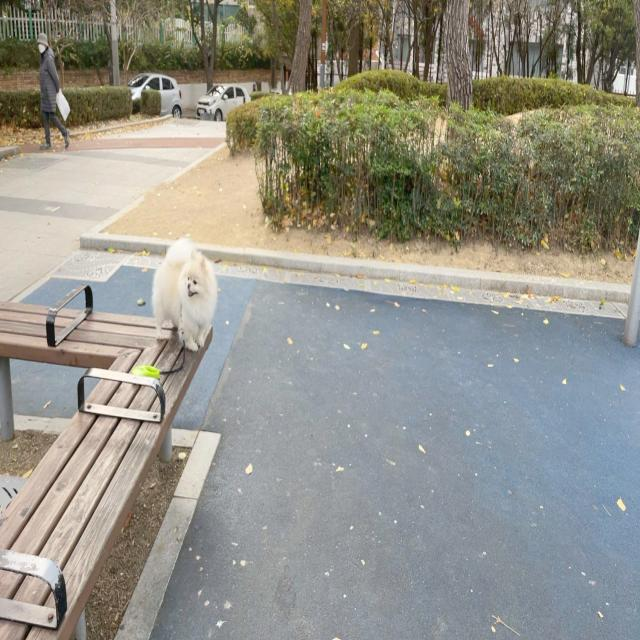Dog: (151, 236, 218, 351)
